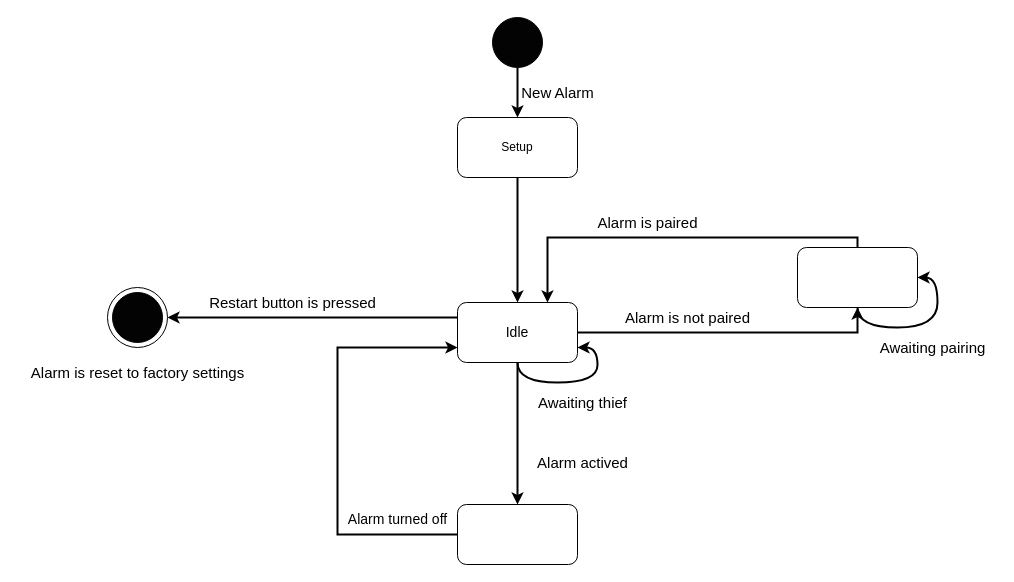
Some shapes in this 1014 by 582 pixel diagram are drawn without their labels. Each missing label, with the centre of its shape:
"Alarm" goes at point 517,534.
"Pairing" goes at point 857,277.
